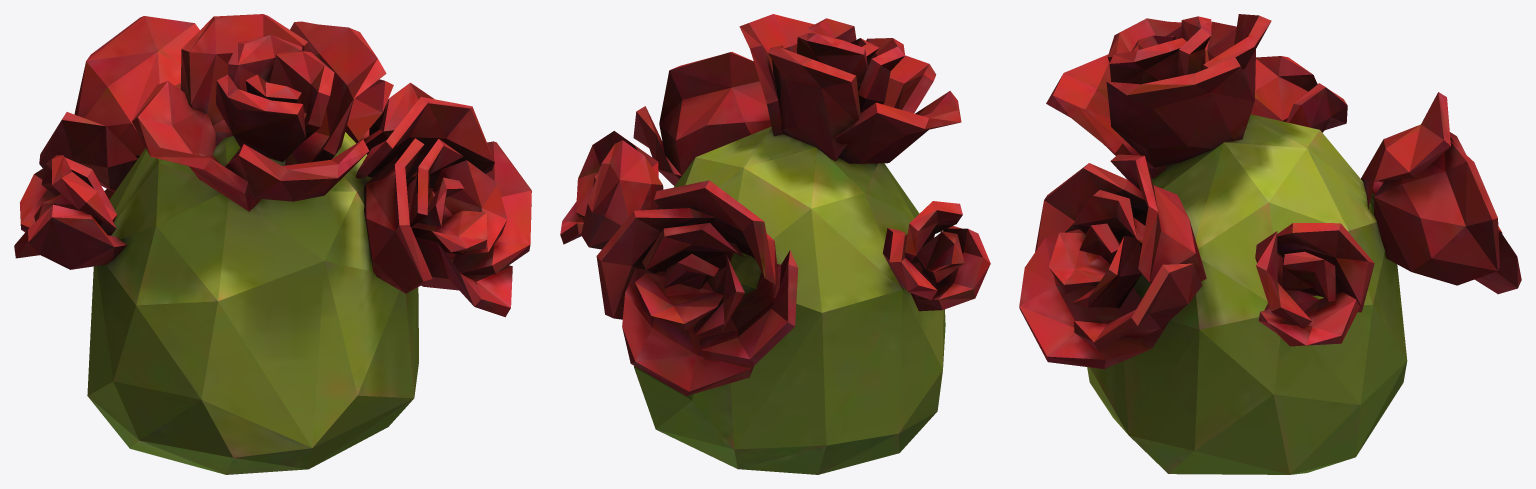
The model's file is roseBush.glb.
3 renders of one model, left to right at view 1: azimuth 30°, elevation 25°; view 2: azimuth 150°, elevation 25°; view 3: azimuth 270°, elevation 25°, orthographic. The views are drawn at different scales.
Visible parts, largest first — view 1: Rose_Bush; view 2: Rose_Bush; view 3: Rose_Bush.
Boxes of the visible parts, x1=… form: Rose_Bush: x1=14, y1=14, x2=531, y2=474; Rose_Bush: x1=560, y1=14, x2=990, y2=474; Rose_Bush: x1=1019, y1=14, x2=1521, y2=474.
Bounding box in the file's own units: 1.81 × 1.6 × 1.81.
1 material, 1 textured.
